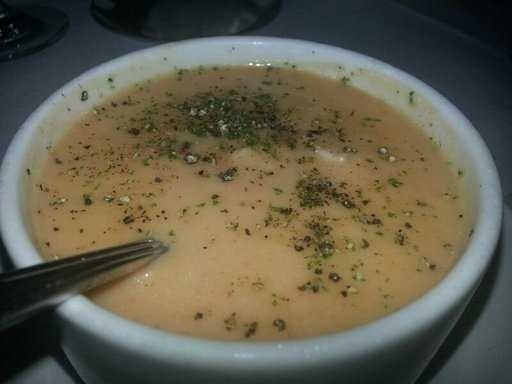soup: (18, 61, 470, 341)
